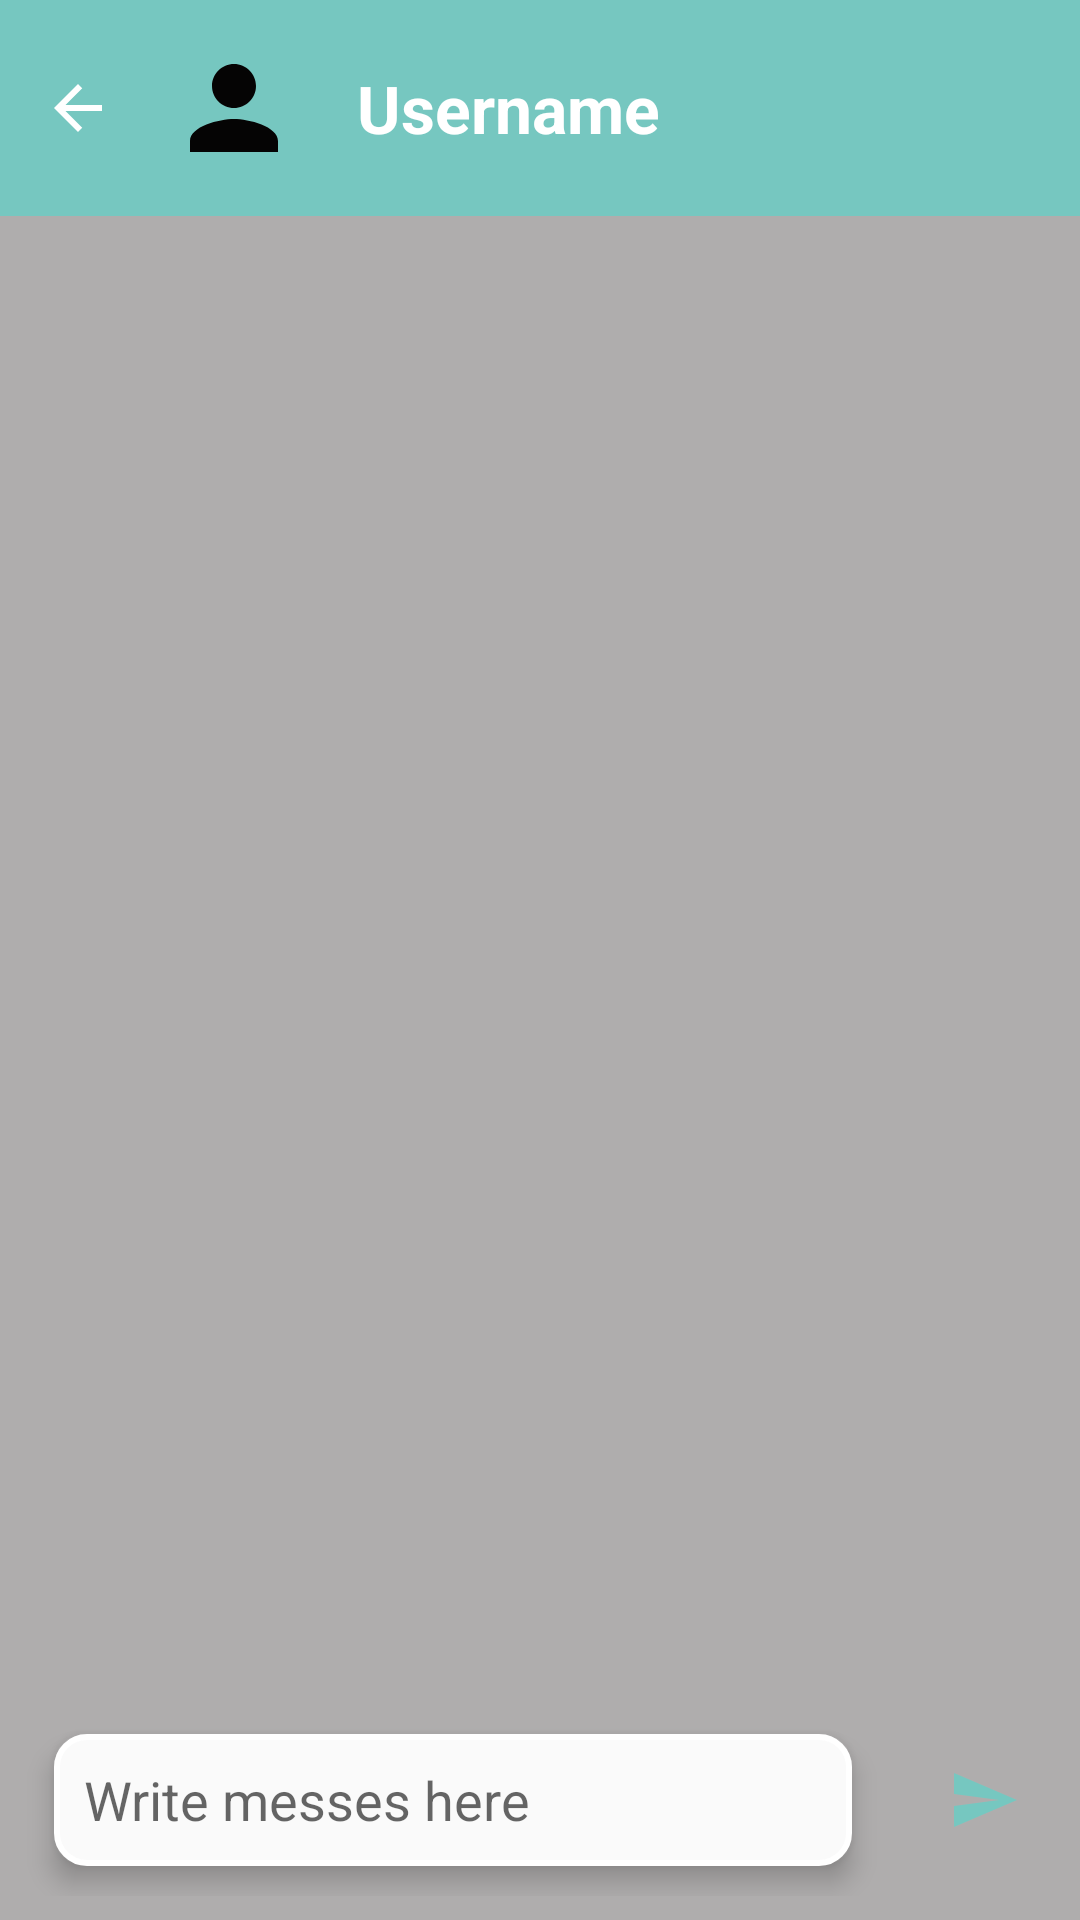

Screen size 1080 x 1920. Icon name, then its center in pixels as (x=x, y=y):
arrow back: (x=78, y=108)
person: (x=234, y=108)
send: (x=985, y=1800)
